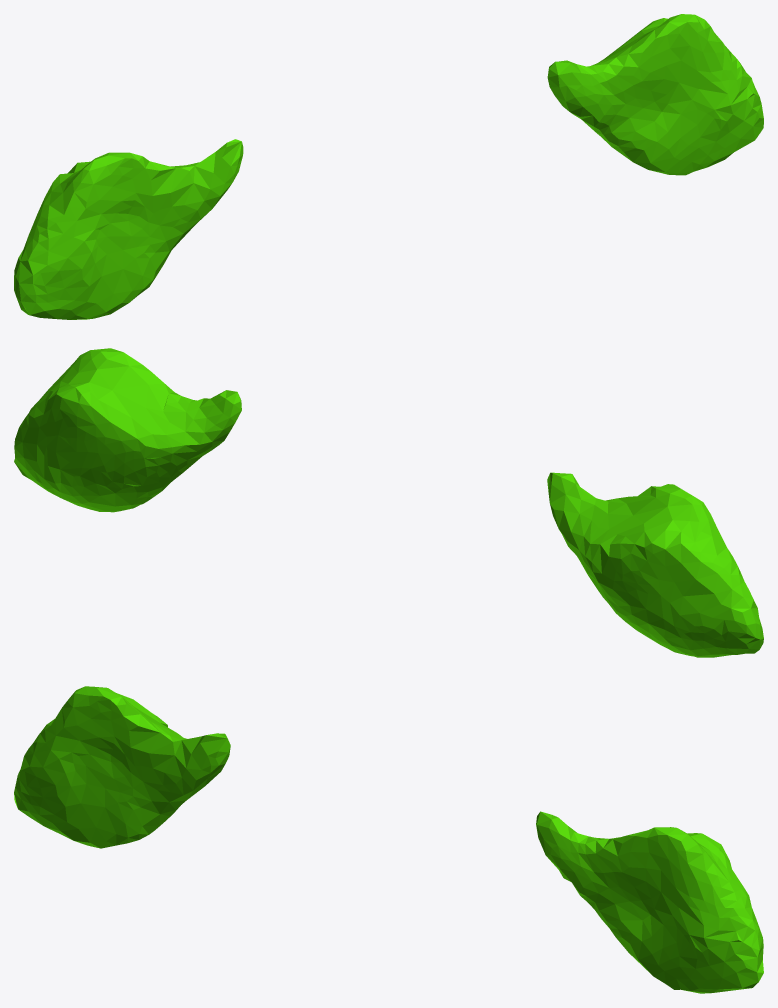
Rendered from 141-8A-area 8A of cortex-('0.3804', '1.0000', '0.0000').obj.
3 renders of one model, top to bottom at view 1: azimuth 30°, elevation 25°; view 2: azimuth 150°, elevation 25°; view 3: azimuth 330°, elevation 25°, orthographic.
Bounding box in the file's own units: 264 × 54.99 × 24.04.
